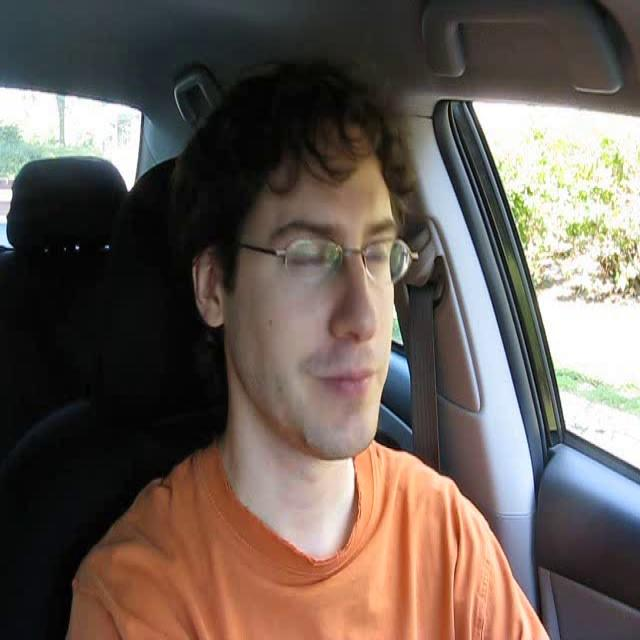close: (304, 360, 382, 403)
